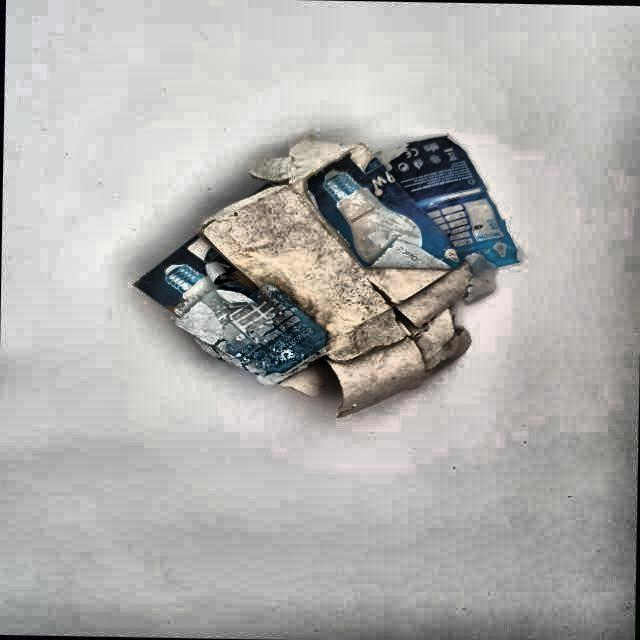cardboard: (136, 136, 519, 418)
